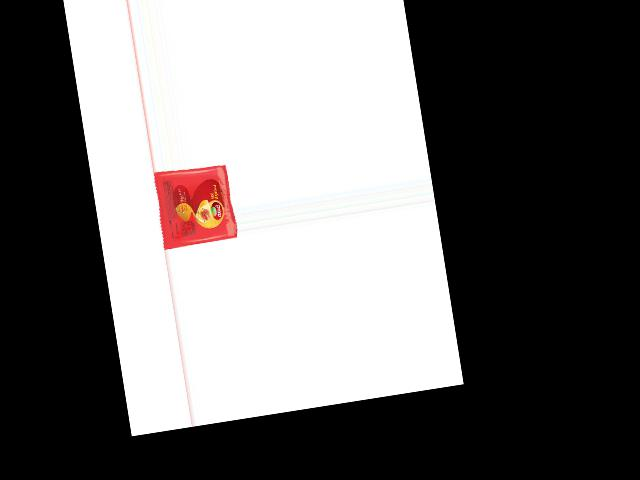cheese: (152, 164, 237, 250)
